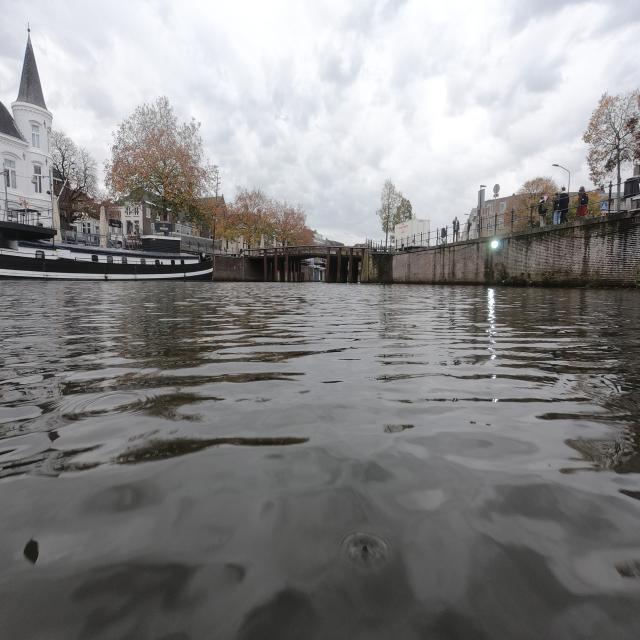boat: (0, 242, 216, 278)
sky: (6, 8, 636, 242)
tree: (105, 96, 210, 215), (584, 78, 638, 196), (218, 192, 316, 246), (376, 179, 402, 248), (397, 197, 413, 221)
wall: (374, 214, 638, 286), (212, 252, 262, 278)
water: (8, 290, 638, 634)
